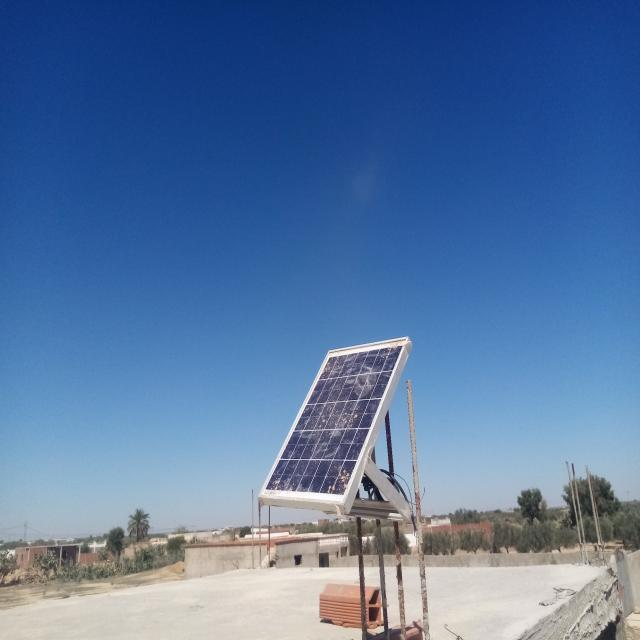faulty: (258, 337, 408, 504)
